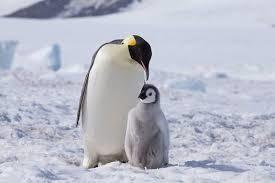emporer: (75, 34, 164, 173)
